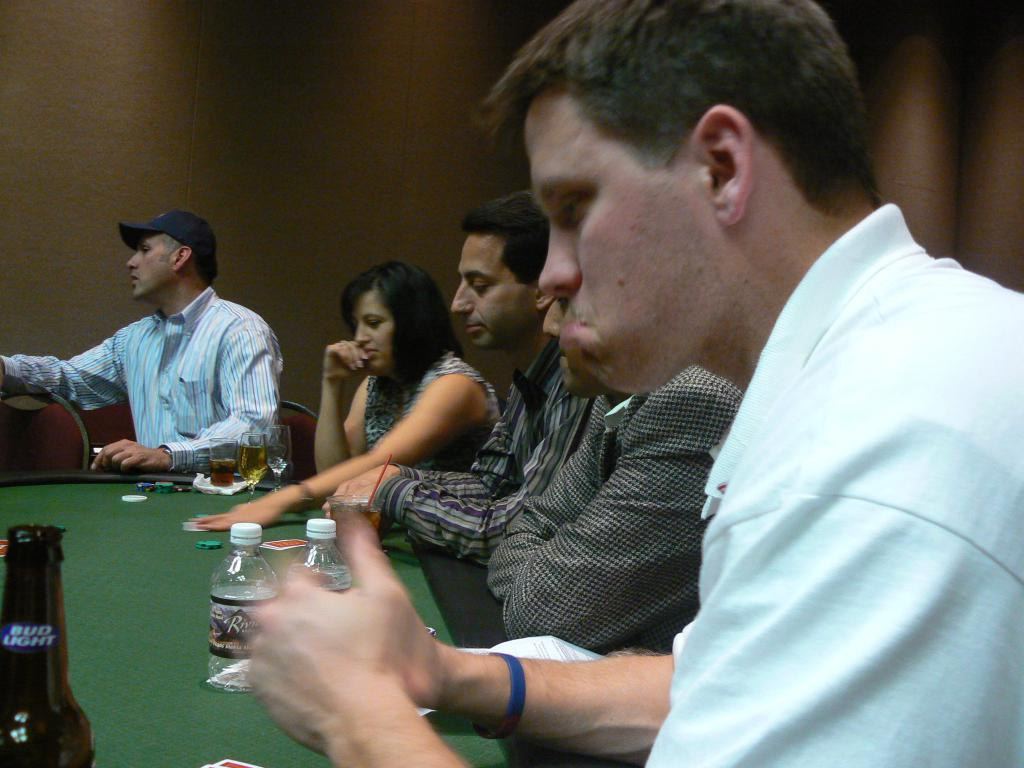Beer: (0, 519, 94, 767)
